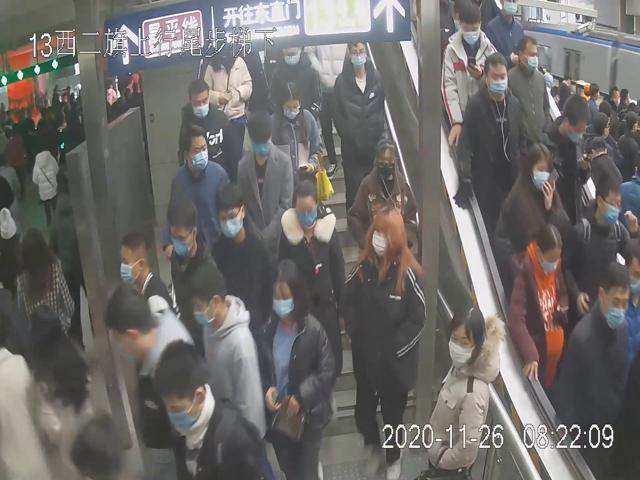person: (342, 205, 429, 476), (257, 258, 337, 480), (549, 258, 632, 459), (272, 173, 343, 374), (188, 259, 264, 439), (424, 303, 501, 477), (456, 53, 524, 227), (489, 141, 572, 280), (206, 180, 274, 325), (348, 132, 419, 263), (508, 225, 569, 374), (234, 111, 295, 249), (441, 3, 501, 142), (330, 40, 386, 170), (168, 122, 228, 239), (162, 193, 210, 338), (266, 78, 325, 188), (177, 80, 234, 181)
